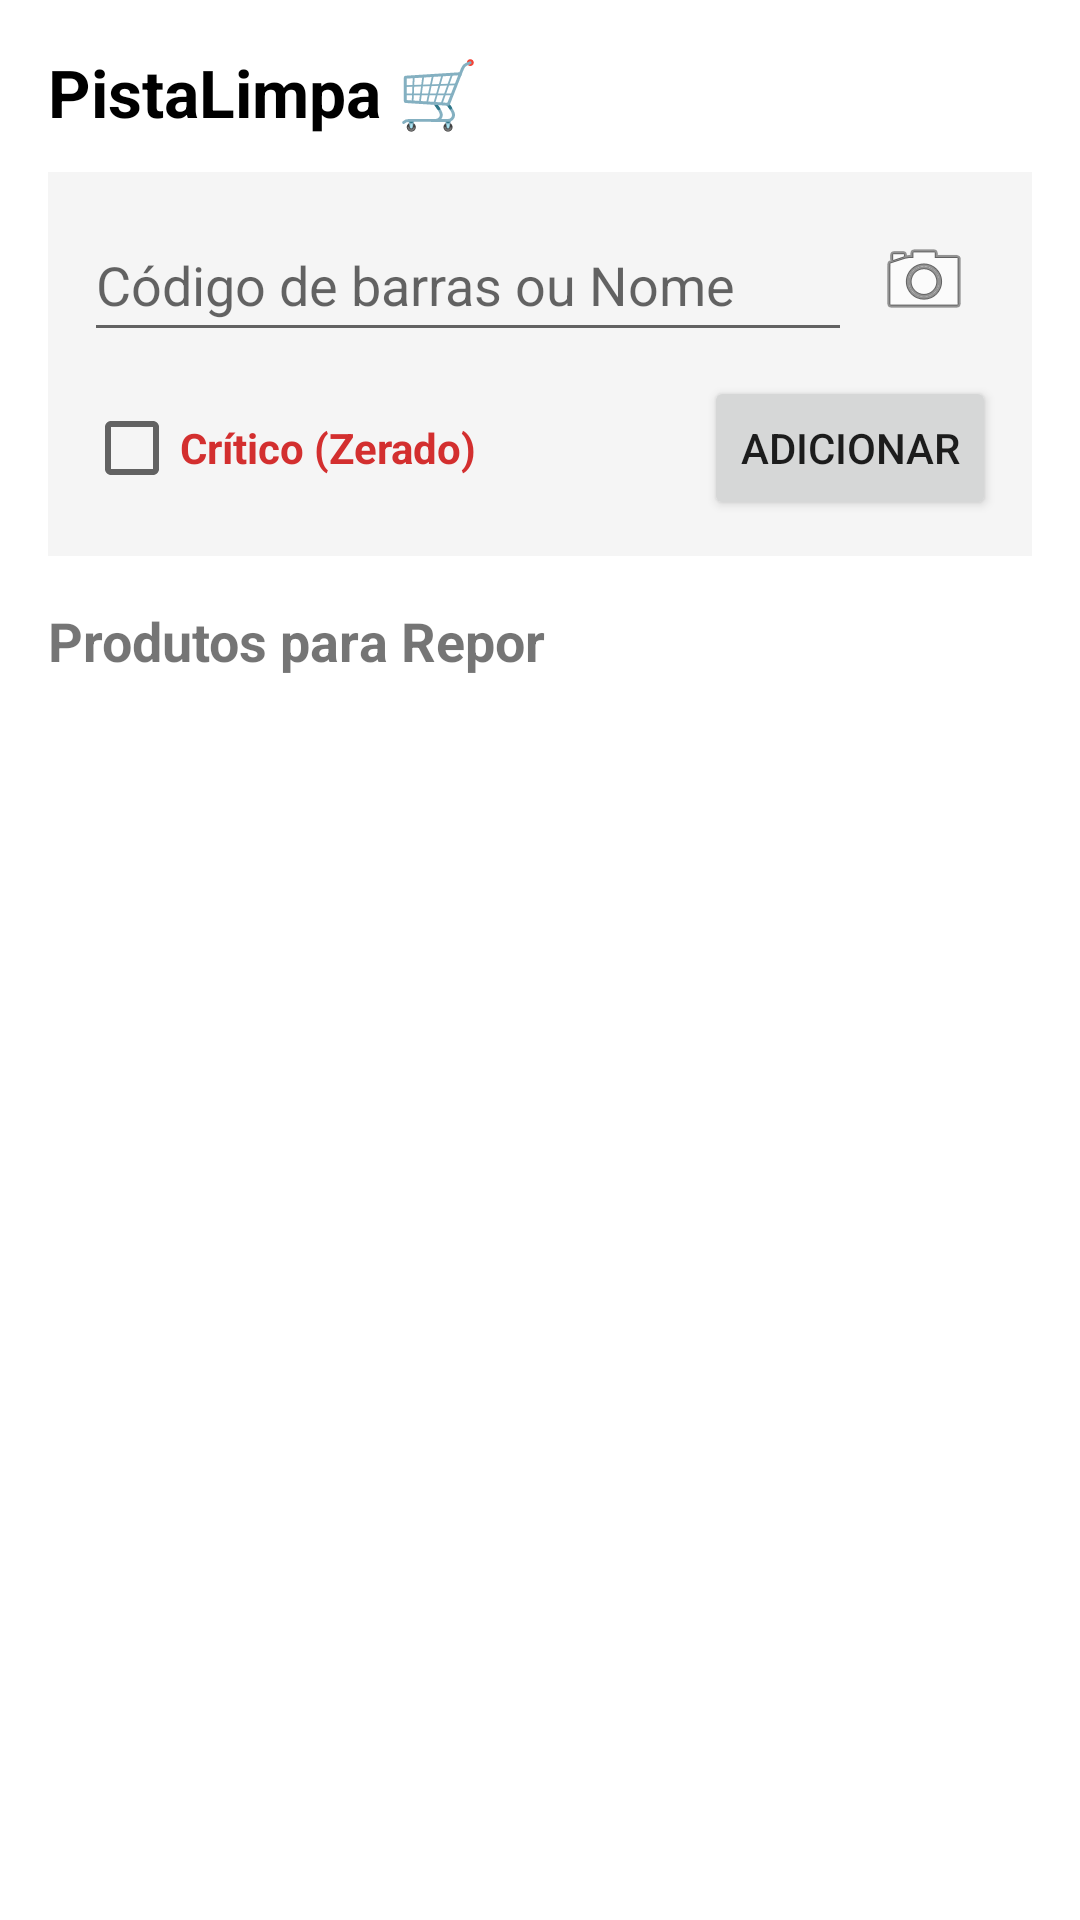

Icons on this 1080 x 1920 Android screen, each with the point to tap as (x,y):
Escanear Câmera: (924,278)
